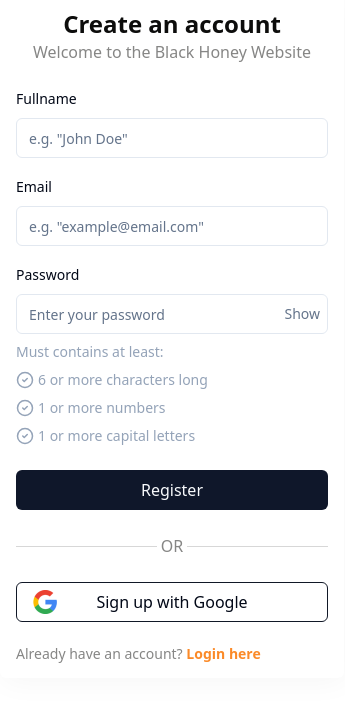
Scenario: Register Page › should show error message when the back-end set isError to true in the response
In the field labelled "Fullname": coordinates (172, 138) [16,118,328,158], type "User"
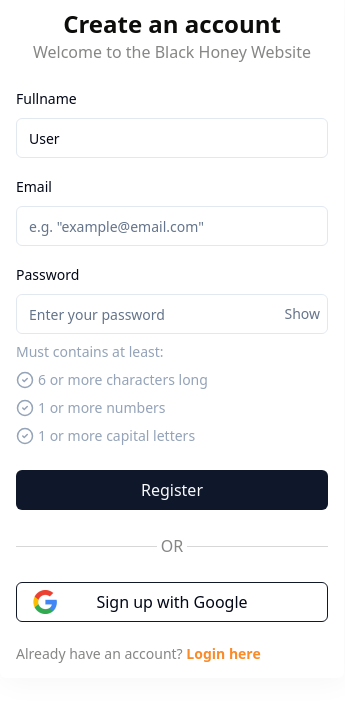
In the field labelled "Email": coordinates (172, 226) [16,206,328,246], type "example@email.com"
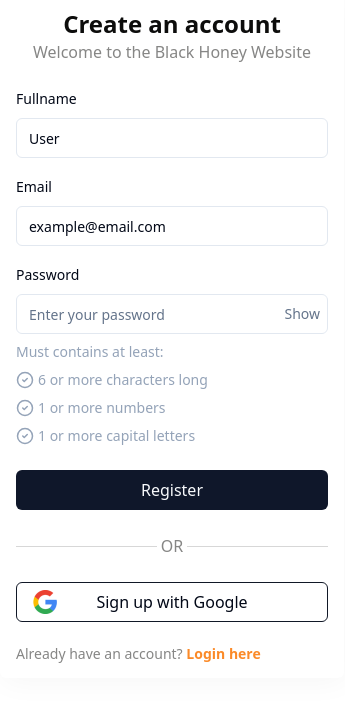
In the password field with placeholder "Enter your password": coordinates (172, 314) [16,294,328,334], type "ThisisAstrongpass21"
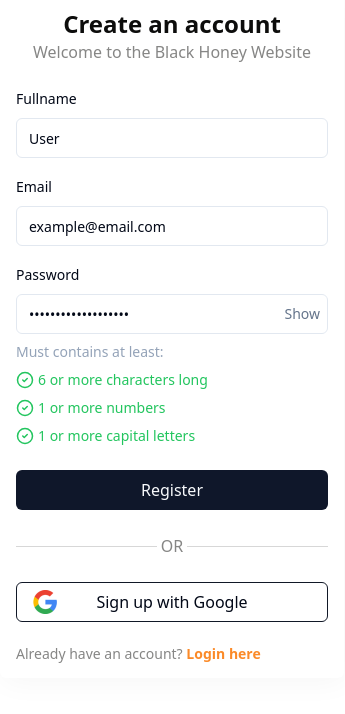
Click the button "Register": coordinates (172, 490) [16,470,328,510]
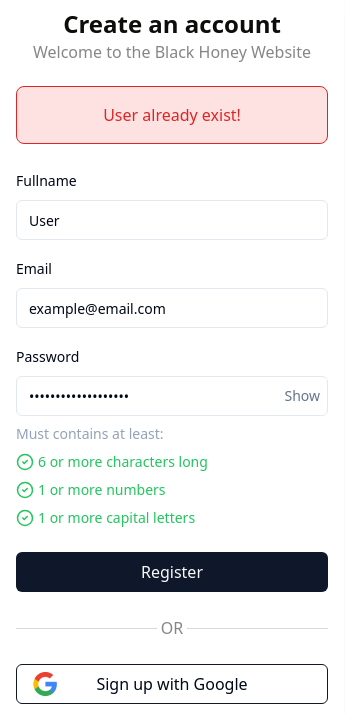
Now the text "User already exist!" is shown, box [103,103,241,127]
